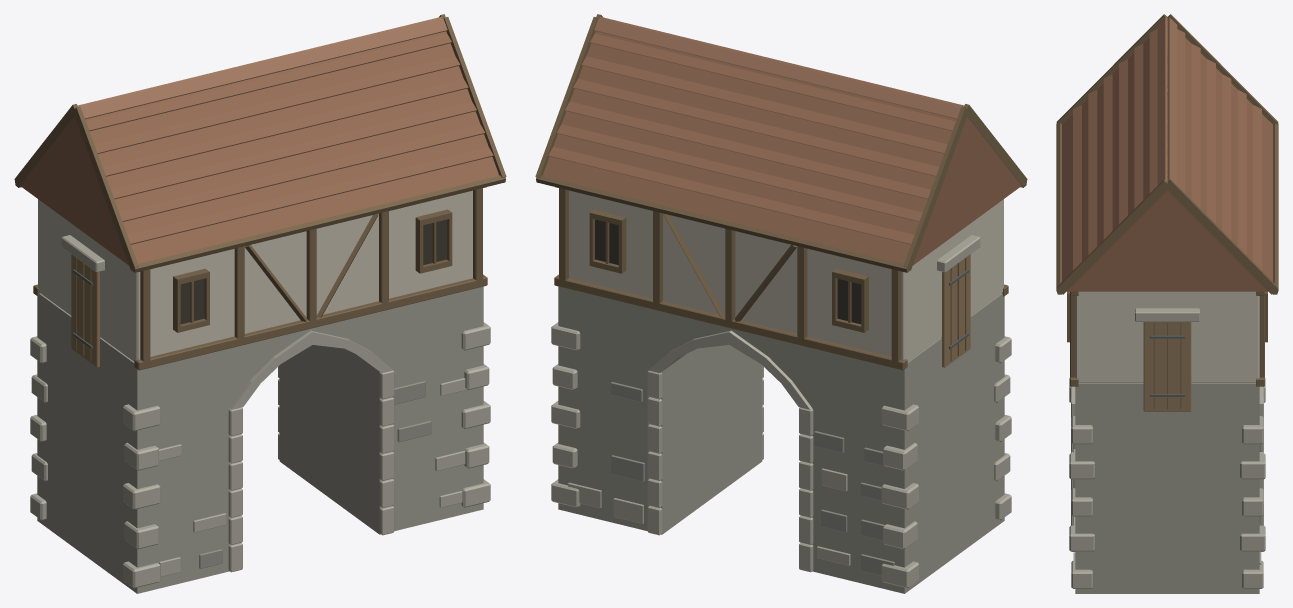
File: fort_gatehouse.glb
3 views of the same model, side by side, from view 1: azimuth 30°, elevation 25°; view 2: azimuth 150°, elevation 25°; view 3: azimuth 270°, elevation 25° (orthographic). The views are drawn at different scales.
Parts seen in each view (by area): view 1: fort_gatehouse_fort_masonry, fort_gatehouse_fort_roof, fort_gatehouse_fort_plaster, fort_gatehouse_oak_dark, fort_gatehouse_fort_stone_light, fort_gatehouse_fort_roof_light, fort_gatehouse_oak, fort_gatehouse_black, fort_gatehouse_fort_stone_dark; view 2: fort_gatehouse_fort_masonry, fort_gatehouse_fort_roof, fort_gatehouse_fort_plaster, fort_gatehouse_oak_dark, fort_gatehouse_fort_stone_light, fort_gatehouse_fort_roof_light, fort_gatehouse_fort_stone_dark, fort_gatehouse_oak, fort_gatehouse_black; view 3: fort_gatehouse_fort_roof, fort_gatehouse_fort_masonry, fort_gatehouse_fort_plaster, fort_gatehouse_oak_dark, fort_gatehouse_fort_stone_light, fort_gatehouse_oak, fort_gatehouse_fort_roof_light.
Part boxes in pixels (x1=…): fort_gatehouse_fort_masonry: x1=37, y1=286, x2=483, y2=593; fort_gatehouse_fort_roof: x1=20, y1=31, x2=499, y2=265; fort_gatehouse_fort_plaster: x1=38, y1=190, x2=472, y2=361; fort_gatehouse_oak_dark: x1=14, y1=14, x2=506, y2=370; fort_gatehouse_fort_stone_light: x1=30, y1=235, x2=490, y2=588; fort_gatehouse_fort_roof_light: x1=77, y1=17, x2=447, y2=119; fort_gatehouse_oak: x1=71, y1=254, x2=100, y2=367; fort_gatehouse_black: x1=180, y1=219, x2=446, y2=324; fort_gatehouse_fort_stone_dark: x1=199, y1=381, x2=431, y2=568; fort_gatehouse_fort_masonry: x1=558, y1=286, x2=1004, y2=593; fort_gatehouse_fort_roof: x1=542, y1=31, x2=1021, y2=265; fort_gatehouse_fort_plaster: x1=569, y1=190, x2=1003, y2=361; fort_gatehouse_oak_dark: x1=535, y1=14, x2=1027, y2=370; fort_gatehouse_fort_stone_light: x1=551, y1=235, x2=1011, y2=588; fort_gatehouse_fort_roof_light: x1=594, y1=17, x2=964, y2=119; fort_gatehouse_fort_stone_dark: x1=610, y1=382, x2=894, y2=575; fort_gatehouse_oak: x1=941, y1=254, x2=970, y2=367; fort_gatehouse_black: x1=595, y1=219, x2=861, y2=324; fort_gatehouse_fort_roof: x1=1062, y1=29, x2=1272, y2=291; fort_gatehouse_fort_masonry: x1=1075, y1=383, x2=1259, y2=593; fort_gatehouse_fort_plaster: x1=1075, y1=291, x2=1259, y2=382; fort_gatehouse_oak_dark: x1=1056, y1=14, x2=1278, y2=409; fort_gatehouse_fort_stone_light: x1=1069, y1=308, x2=1265, y2=588; fort_gatehouse_oak: x1=1143, y1=322, x2=1191, y2=411; fort_gatehouse_fort_roof_light: x1=1157, y1=17, x2=1177, y2=185.
Bounding box in the file's own units: 6.44 × 7.52 × 3.62.
